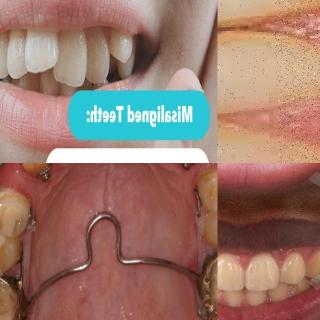Gum Swelling: (278, 0, 320, 163)
maligned: (48, 18, 87, 86), (22, 21, 61, 80), (80, 23, 108, 83), (108, 20, 134, 69)
